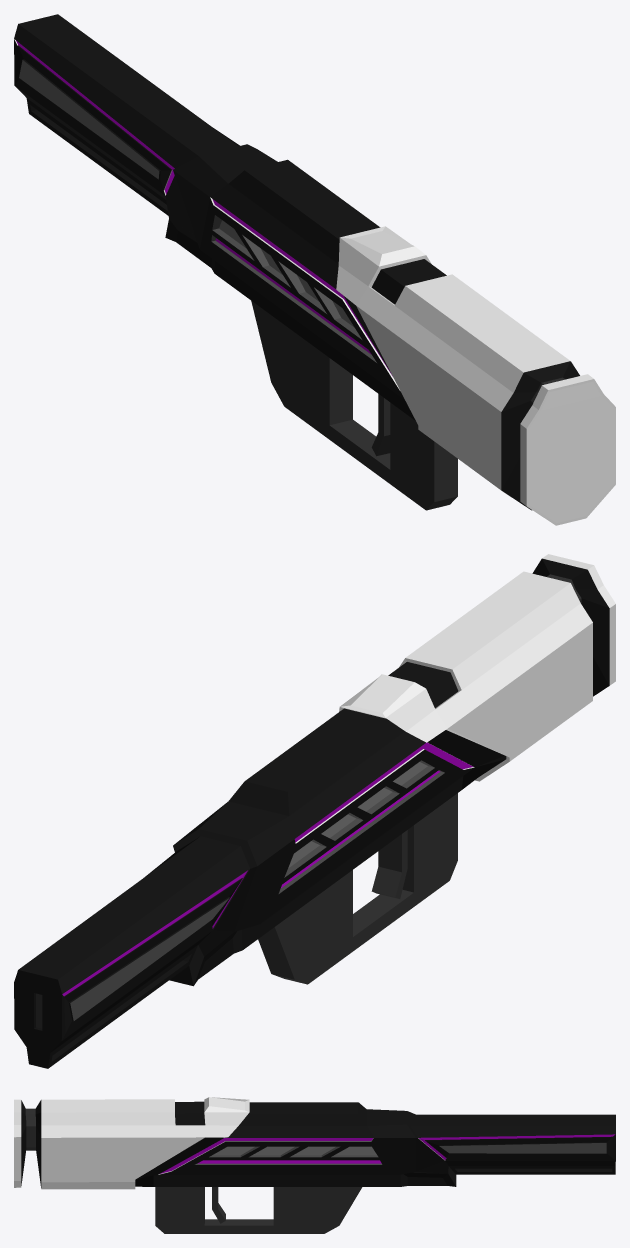
The model's file is RayRifle.fbx.
3 views of the same model, one above another, from view 1: azimuth 30°, elevation 25°; view 2: azimuth 150°, elevation 25°; view 3: azimuth 270°, elevation 25° (orthographic). The views are drawn at different scales.
Parts seen in each view (by area): view 1: Rifle; view 2: Rifle; view 3: Rifle.
Part boxes in pixels (x1,y1,x2,y2): Rifle: [14, 14, 615, 525]; Rifle: [14, 554, 615, 1068]; Rifle: [14, 1097, 615, 1233].
Bounding box in the file's own units: 10.44 × 24.87 × 105.
